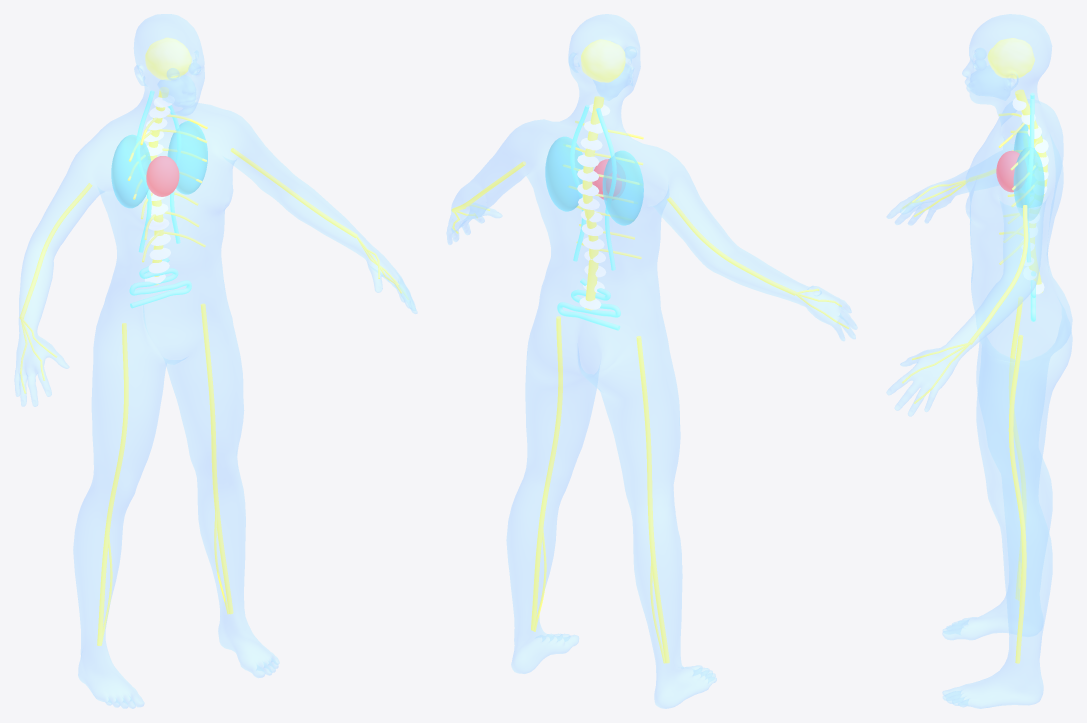
Rendered from body.glb.
3 views of the same model, side by side, from view 1: azimuth 30°, elevation 25°; view 2: azimuth 150°, elevation 25°; view 3: azimuth 270°, elevation 25° (orthographic).
Parts seen in each view (by area): view 1: Human, lung-1, lung1, legL, legR, brain2, gutcoil, heart2, armL, armR, vagusL; view 2: Human, lung-1, lung1, legL, legR, brain2, spinal, gutcoil, armL, vagusL; view 3: Human, legR, lung1, brain2, legL, armR, spinal, heart2, vagusR, lung-1.
Boxes of the visible parts, x1=… form: Human: x1=14, y1=14, x2=417, y2=708; lung-1: x1=111, y1=134, x2=151, y2=208; lung1: x1=167, y1=121, x2=207, y2=194; legL: x1=97, y1=323, x2=128, y2=645; legR: x1=200, y1=303, x2=233, y2=614; brain2: x1=145, y1=37, x2=191, y2=80; gutcoil: x1=129, y1=257, x2=191, y2=308; heart2: x1=146, y1=156, x2=179, y2=196; armL: x1=19, y1=183, x2=92, y2=318; armR: x1=230, y1=148, x2=357, y2=238; vagusL: x1=136, y1=90, x2=154, y2=252; Human: x1=446, y1=14, x2=857, y2=708; lung-1: x1=602, y1=150, x2=643, y2=225; lung1: x1=545, y1=136, x2=583, y2=211; legL: x1=636, y1=336, x2=669, y2=663; legR: x1=531, y1=316, x2=562, y2=630; brain2: x1=581, y1=39, x2=625, y2=82; spinal: x1=582, y1=96, x2=604, y2=310; gutcoil: x1=557, y1=278, x2=620, y2=330; armL: x1=667, y1=197, x2=796, y2=295; vagusL: x1=596, y1=108, x2=616, y2=270; Human: x1=886, y1=14, x2=1072, y2=708; legR: x1=1008, y1=335, x2=1026, y2=663; lung1: x1=1013, y1=147, x2=1044, y2=220; brain2: x1=987, y1=38, x2=1034, y2=78; legL: x1=1009, y1=296, x2=1026, y2=599; armR: x1=968, y1=205, x2=1028, y2=344; spinal: x1=1015, y1=89, x2=1047, y2=292; heart2: x1=996, y1=150, x2=1019, y2=192; vagusR: x1=1025, y1=99, x2=1034, y2=262; lung-1: x1=1013, y1=124, x2=1041, y2=153.
Bounding box in the file's own units: 1.05 × 1.66 × 0.43.
